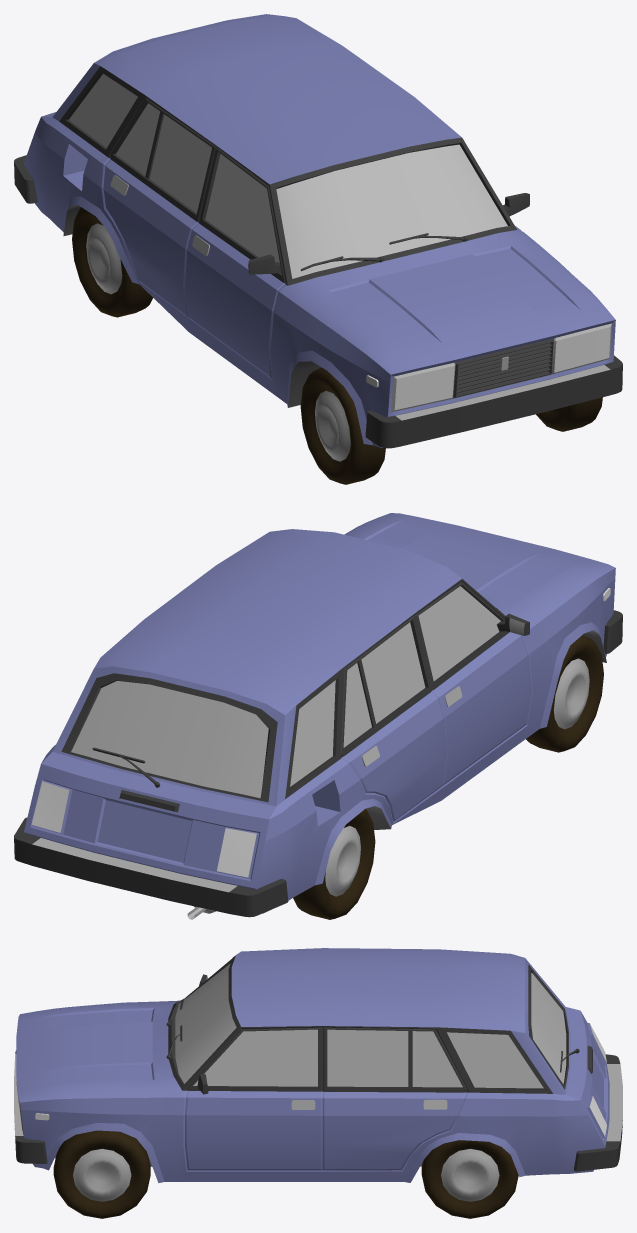
The model's file is Zhiguli1.fbx.
3 views of the same model, one above another, from view 1: azimuth 30°, elevation 25°; view 2: azimuth 150°, elevation 25°; view 3: azimuth 270°, elevation 25° (orthographic). The views are drawn at different scales.
Visible parts, largest first — view 1: Body, Wheel_FR, Wheel_RR, Wheel_FL; view 2: Body, Wheel_FR, Wheel_RR; view 3: Body, Wheel_FL, Wheel_RL.
Boxes of the visible parts, bbox=[...] form: Body: bbox=[14, 14, 622, 448]; Wheel_FR: bbox=[300, 367, 385, 484]; Wheel_RR: bbox=[72, 207, 152, 317]; Wheel_FL: bbox=[536, 397, 602, 431]; Body: bbox=[14, 513, 622, 919]; Wheel_FR: bbox=[526, 635, 603, 752]; Wheel_RR: bbox=[293, 809, 375, 919]; Body: bbox=[14, 948, 622, 1183]; Wheel_FL: bbox=[53, 1130, 150, 1218]; Wheel_RL: bbox=[421, 1140, 518, 1218].
Size of the model in its own units: 172 by 141 by 401.
